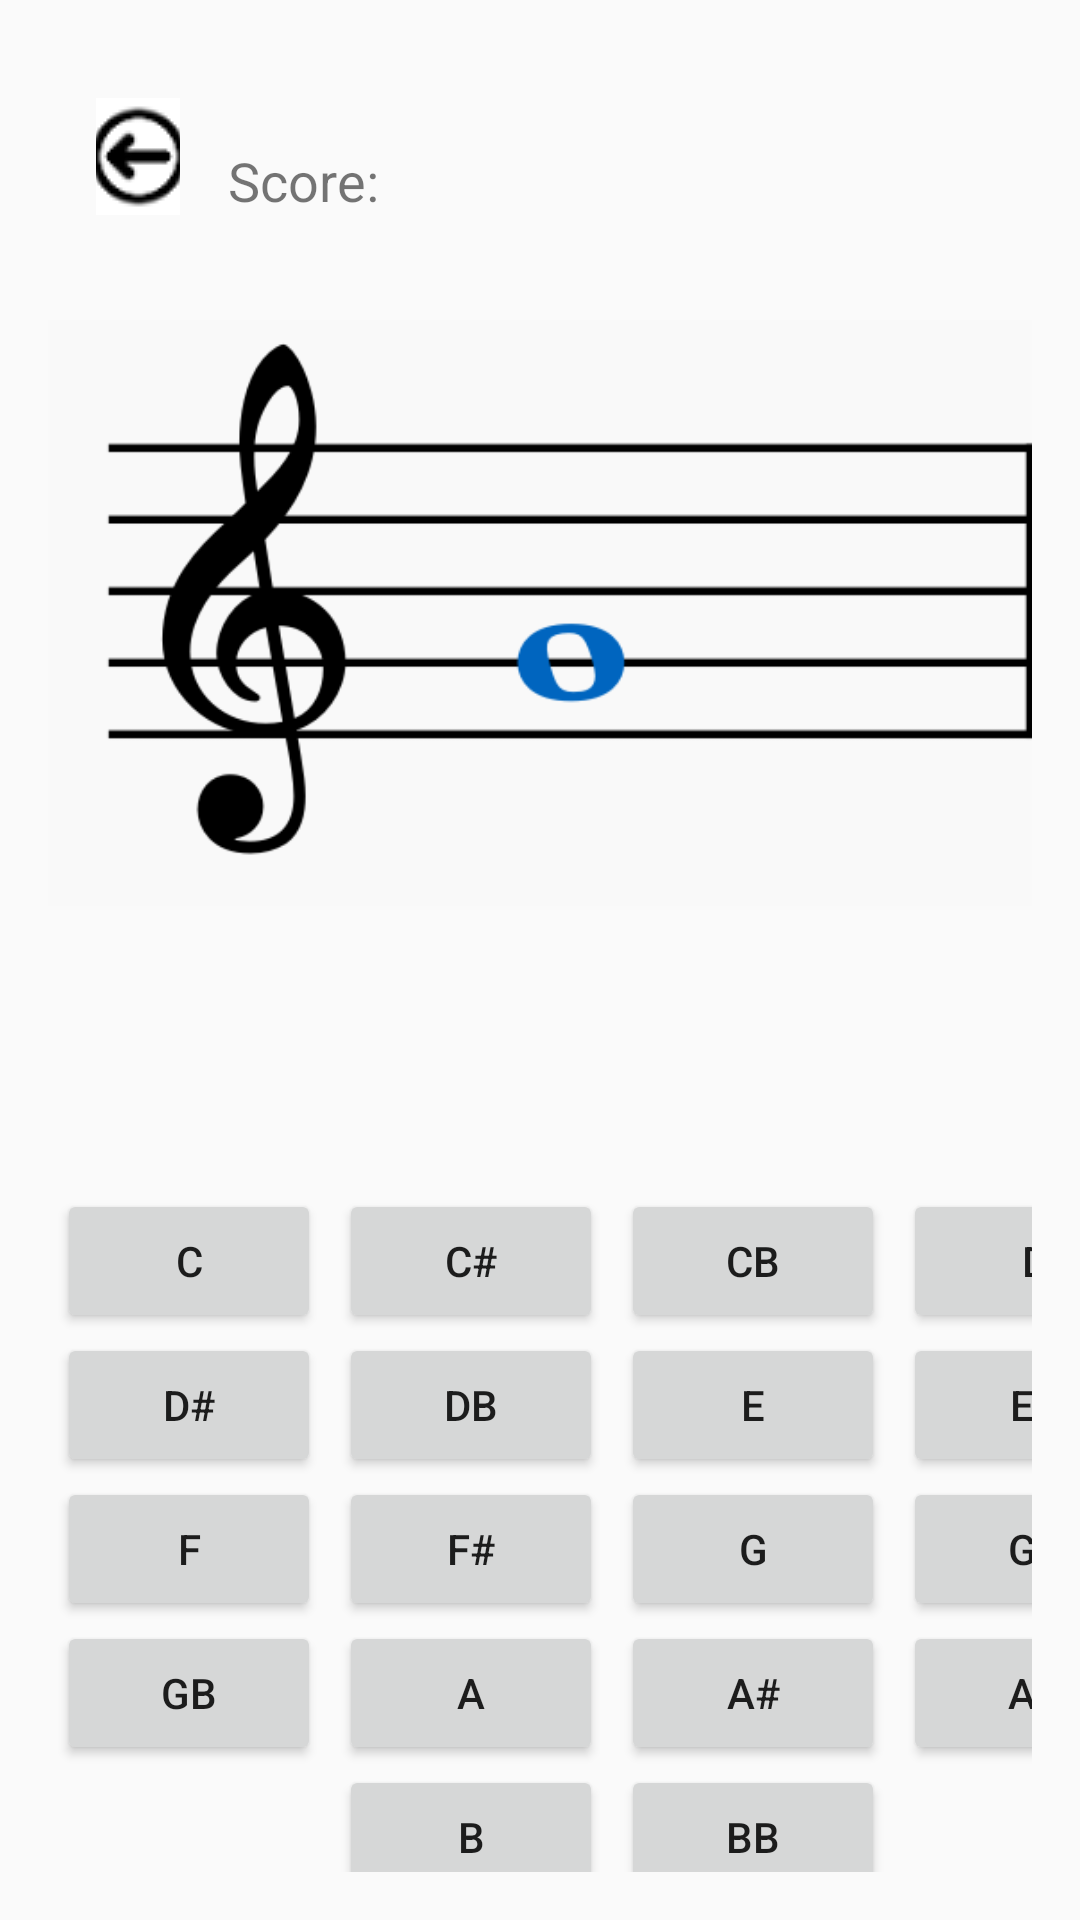

Icon bounding boxes for this 1080 x 1920 phone screenshot, format box=[x1, y1, x2, y2]:
back: box=[96, 107, 180, 206]
